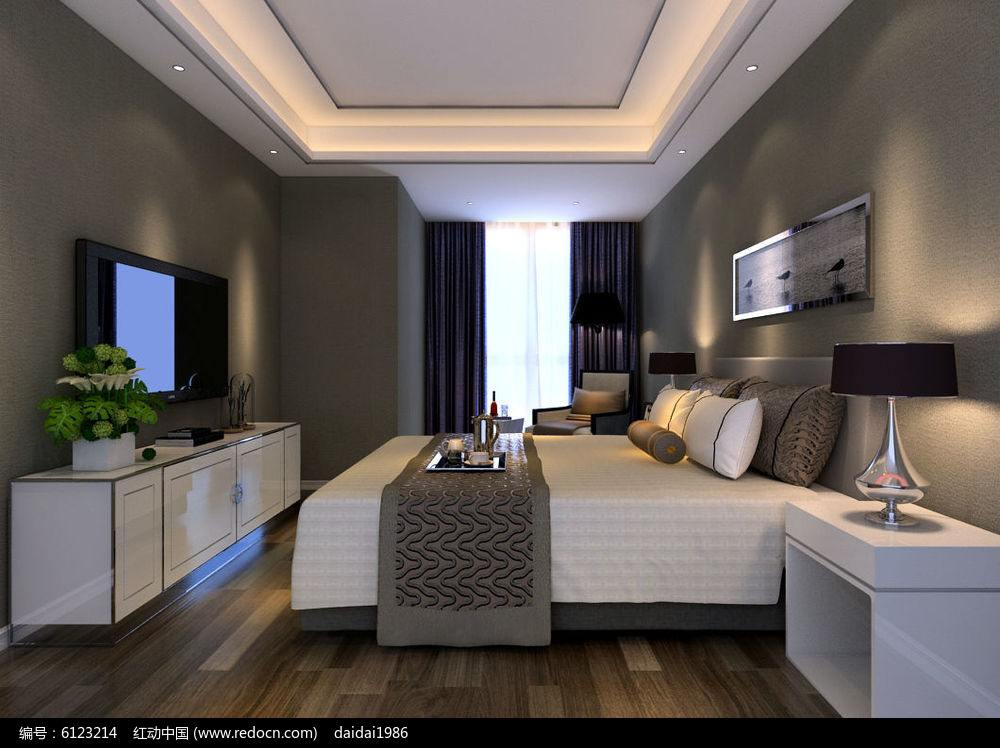床: (296, 438, 838, 643)
枕头: (624, 373, 832, 477), (570, 384, 622, 418)
灯: (826, 339, 957, 535), (645, 354, 706, 394), (733, 60, 756, 77), (166, 59, 188, 76), (265, 147, 284, 160)
